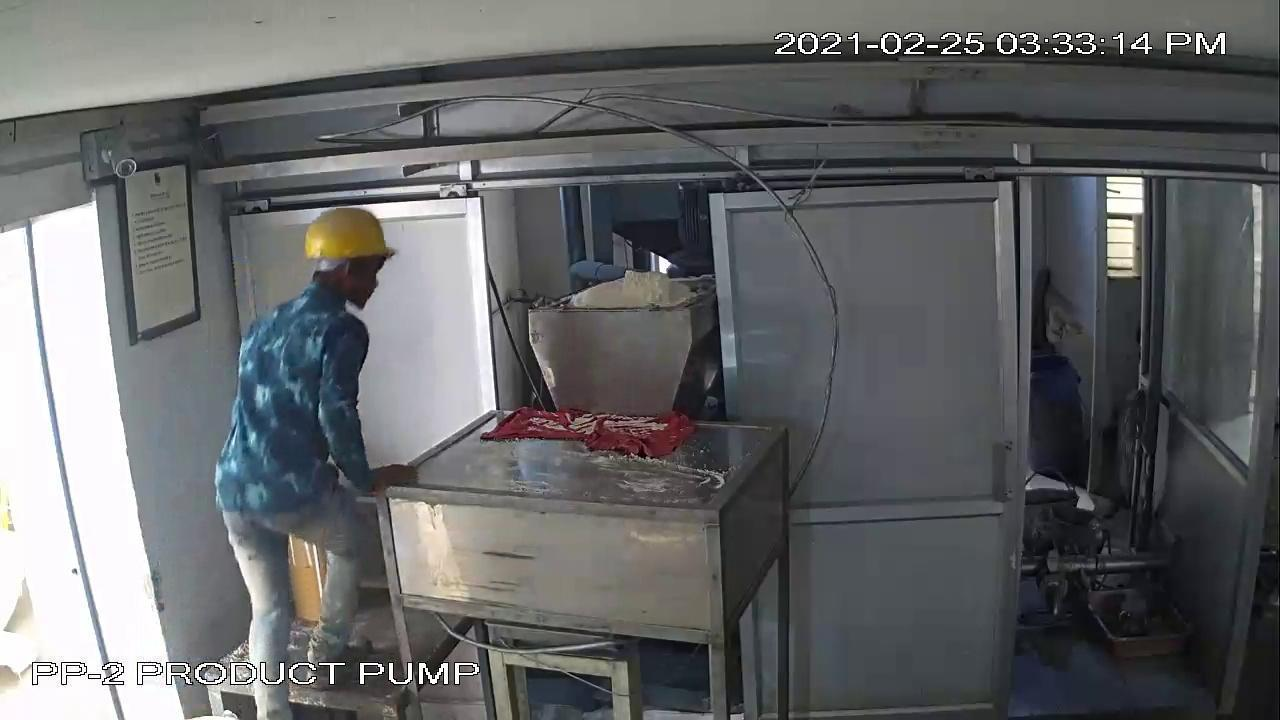helmet: (287, 197, 406, 275)
